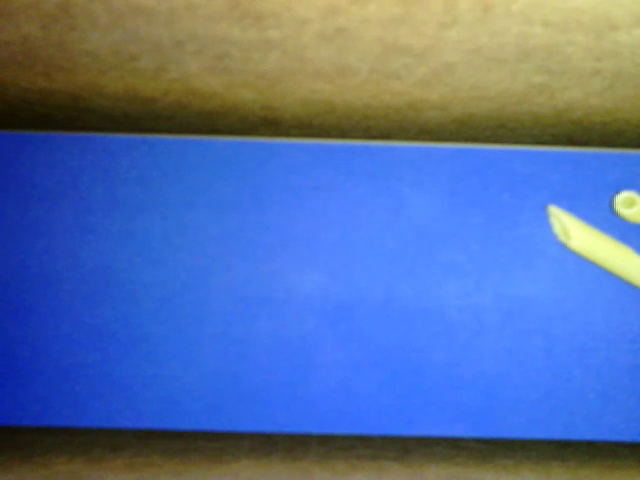penne: (546, 203, 639, 289)
